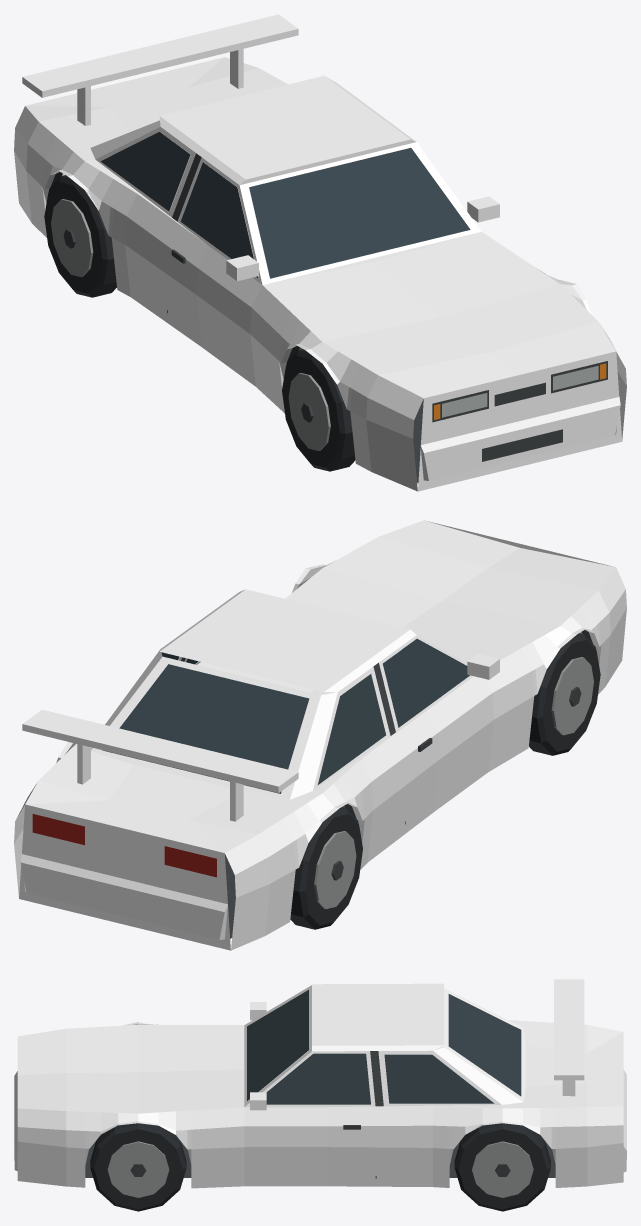
File: hayase_kurenai_corrida.glb
The picture shows the model from 3 angles, top to bottom: view 1: azimuth 30°, elevation 25°; view 2: azimuth 150°, elevation 25°; view 3: azimuth 270°, elevation 25°; orthographic projection. The views are drawn at different scales.
Visible parts, largest first — view 1: hayase_kurenai_corrida; view 2: hayase_kurenai_corrida; view 3: hayase_kurenai_corrida.
Boxes of the visible parts, bbox=[...] form: hayase_kurenai_corrida: bbox=[14, 14, 626, 491]; hayase_kurenai_corrida: bbox=[14, 520, 626, 950]; hayase_kurenai_corrida: bbox=[14, 979, 626, 1211].
Bounding box in the file's own units: 1.74 × 1.2 × 4.44.
Materials: 8 (1 with a texture image).
